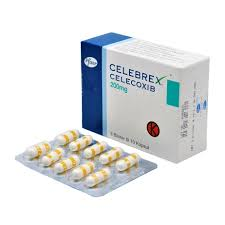Celecoxip: (111, 74, 154, 93)
